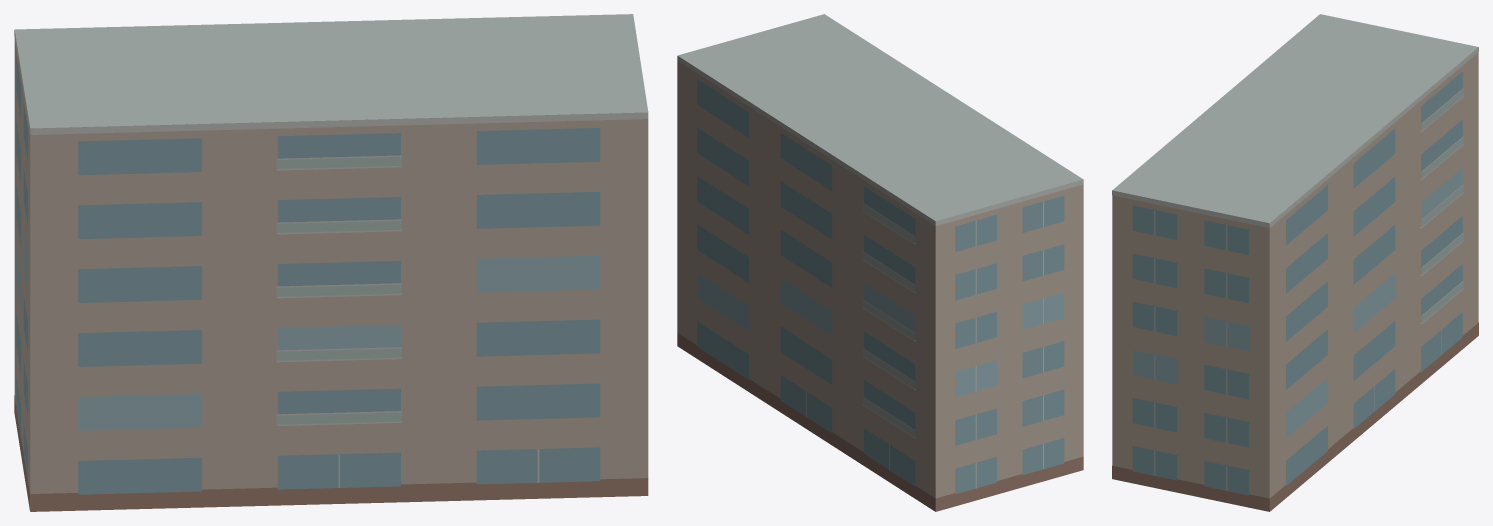
Rendered from survey-upis-32891669.glb.
The picture shows the model from 3 angles, left to right: view 1: azimuth 30°, elevation 25°; view 2: azimuth 150°, elevation 25°; view 3: azimuth 270°, elevation 25°; orthographic projection. The views are drawn at different scales.
Visible parts, largest first — view 1: survey-upis-32891669.tmp; view 2: survey-upis-32891669.tmp; view 3: survey-upis-32891669.tmp.
Part boxes in pixels (<box>): survey-upis-32891669.tmp: <box>14,14,648,511</box>; survey-upis-32891669.tmp: <box>677,14,1083,511</box>; survey-upis-32891669.tmp: <box>1112,14,1478,511</box>.
Size of the model in its own units: 22.24 by 14.3 by 16.47.
